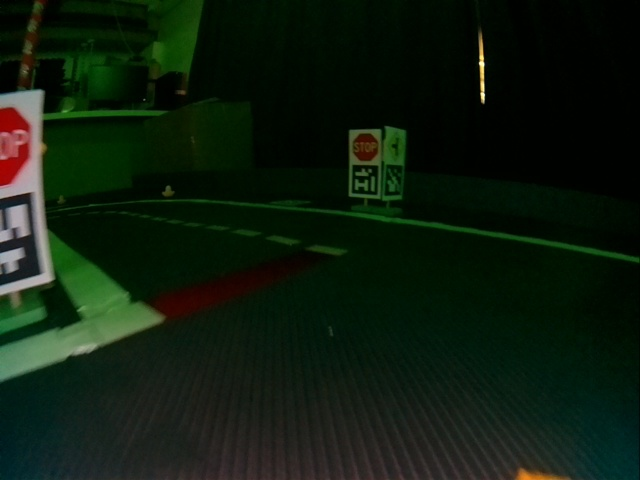Duckie: (162, 186, 172, 195), (57, 196, 67, 204)
Intersection sign: (387, 132, 405, 158)
QR code: (1, 196, 54, 292), (350, 168, 379, 197), (384, 164, 403, 198)
Stop sign: (1, 90, 36, 191), (349, 130, 379, 161)
